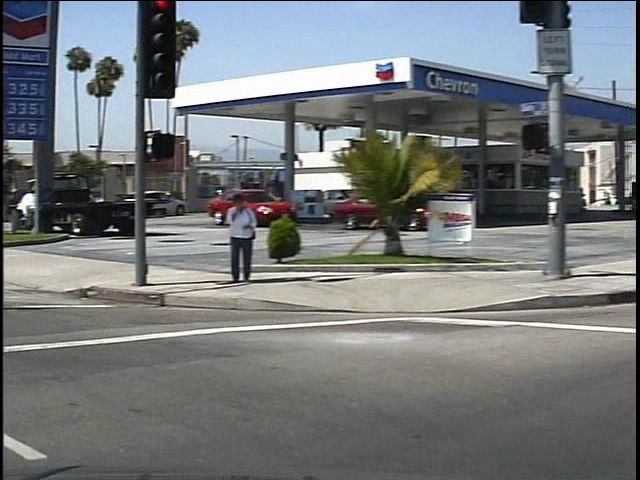person: (215, 191, 251, 288)
